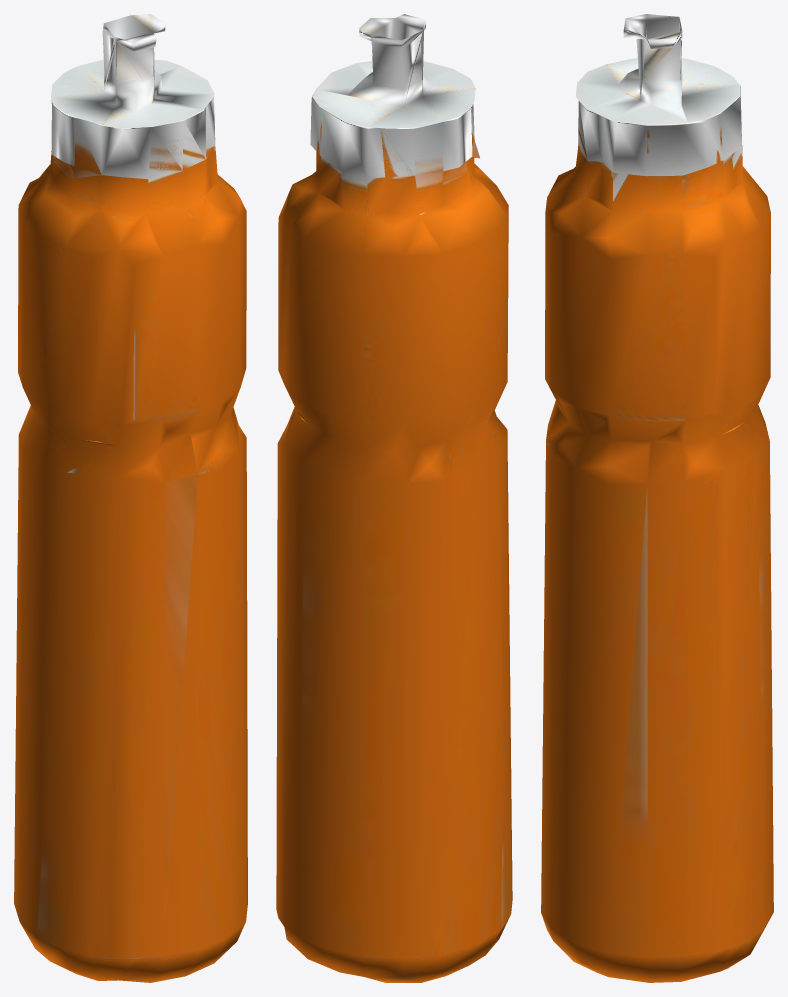
Rendered from bottle.glb.
3 renders of one model, left to right at view 1: azimuth 30°, elevation 25°; view 2: azimuth 150°, elevation 25°; view 3: azimuth 270°, elevation 25°, orthographic.
Size of the model in its own units: 0.2177 by 0.9502 by 0.2177.
1 material, 1 textured.
